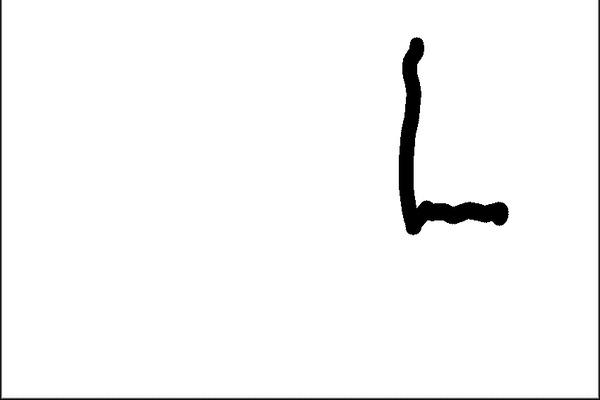L: (389, 28, 512, 241)
